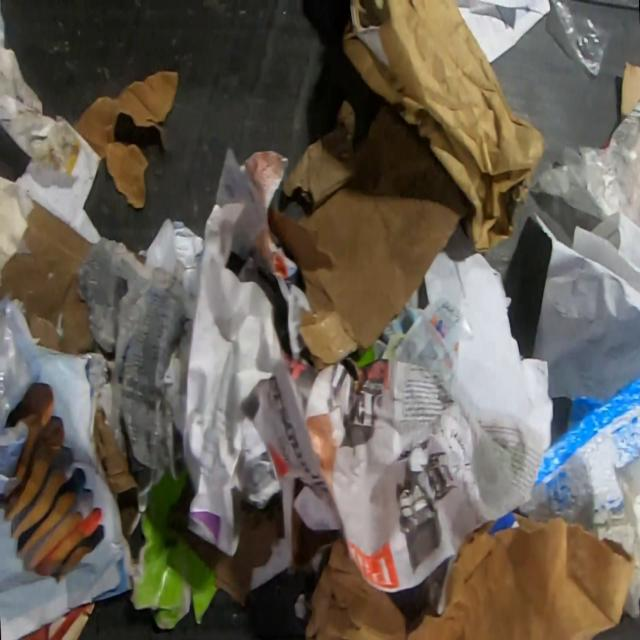cardboard: (268, 100, 472, 369), (516, 372, 640, 522), (0, 200, 98, 355), (128, 465, 218, 630), (167, 490, 285, 607), (282, 99, 356, 212), (91, 406, 144, 540)
soft_plastic: (536, 134, 640, 231), (548, 0, 611, 77), (0, 297, 29, 424), (601, 97, 640, 148)
